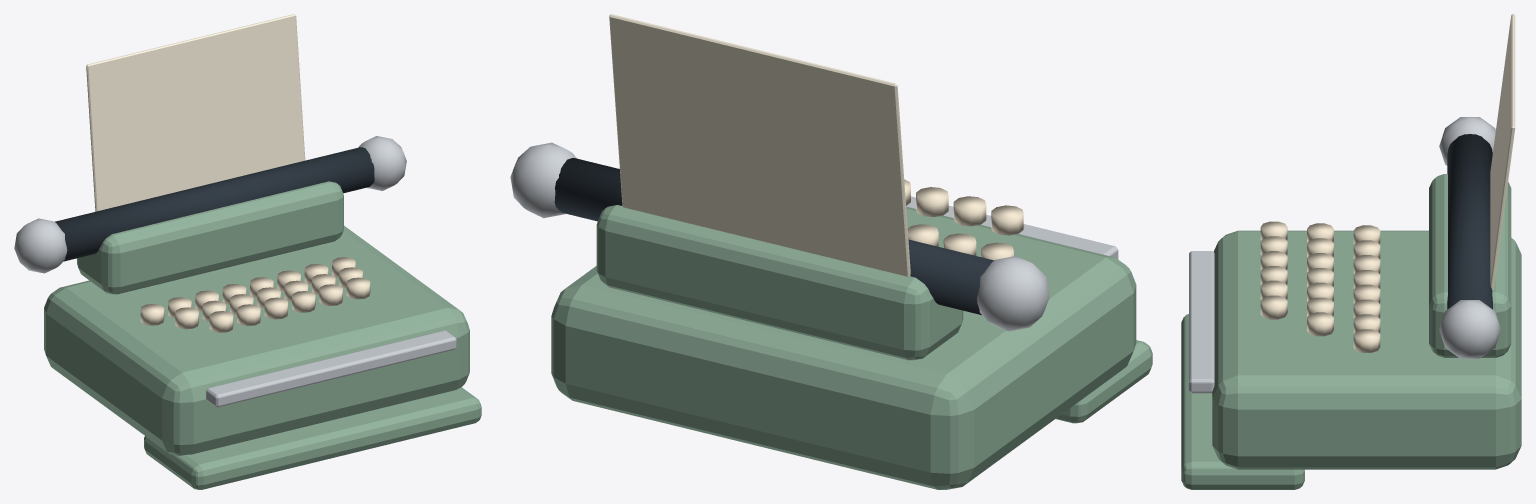
The model's file is typewriter.glb.
3 views of the same model, side by side, from view 1: azimuth 30°, elevation 25°; view 2: azimuth 150°, elevation 25°; view 3: azimuth 270°, elevation 25° (orthographic). The views are drawn at different scales.
Visible parts, largest first — view 1: body, paper, back-block, front-rise, platen, space-bar, knob, knob.001; view 2: body, paper, back-block, platen, knob, knob.001, front-rise, space-bar, key.016, key.017, key.015; view 3: body, platen, front-rise, back-block, paper, space-bar, knob.001, knob, key.020, key.007, key.014, key (+17 smaller).
Boxes of the visible parts, <box> form: body: <box>44,225,469,455</box>; paper: <box>86,14,305,211</box>; back-block: <box>77,181,343,294</box>; front-rise: <box>144,387,481,489</box>; platen: <box>55,147,374,261</box>; space-bar: <box>206,330,456,407</box>; knob: <box>14,218,67,273</box>; knob.001: <box>358,136,406,190</box>; body: <box>551,206,1136,489</box>; paper: <box>609,14,910,276</box>; back-block: <box>596,205,963,360</box>; platen: <box>554,158,993,314</box>; knob: <box>977,256,1049,331</box>; knob.001: <box>510,142,576,218</box>; front-rise: <box>1056,340,1152,423</box>; space-bar: <box>906,196,1118,259</box>; key.016: <box>953,196,986,226</box>; key.017: <box>916,187,948,216</box>; key.015: <box>991,205,1023,235</box>; body: <box>1212,230,1521,469</box>; platen: <box>1447,134,1492,309</box>; front-rise: <box>1181,314,1304,489</box>; back-block: <box>1429,174,1511,357</box>; paper: <box>1490,14,1515,289</box>; space-bar: <box>1189,251,1214,393</box>; knob.001: <box>1439,300,1500,358</box>; knob: <box>1439,117,1495,165</box>; key.020: <box>1260,295,1287,319</box>; key.007: <box>1353,329,1380,352</box>; key.014: <box>1307,312,1333,336</box>; key: <box>1353,225,1380,244</box>.
Size of the model in its own units: 0.4771 by 0.3694 by 0.33.
